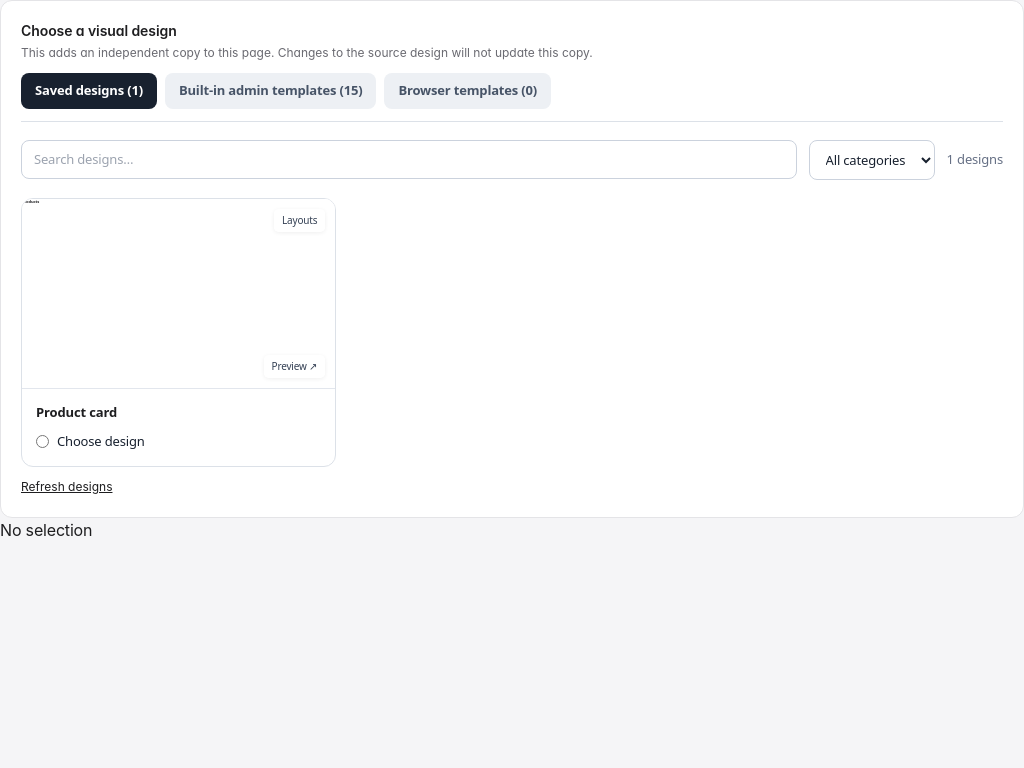
Test: opens a large preview from a thumbnail without selecting it
What coordinates should you click on to do the following:
click the button named "Preview Product card"
I would click on:
 (179, 293)
Its box is [22,198,335,388].
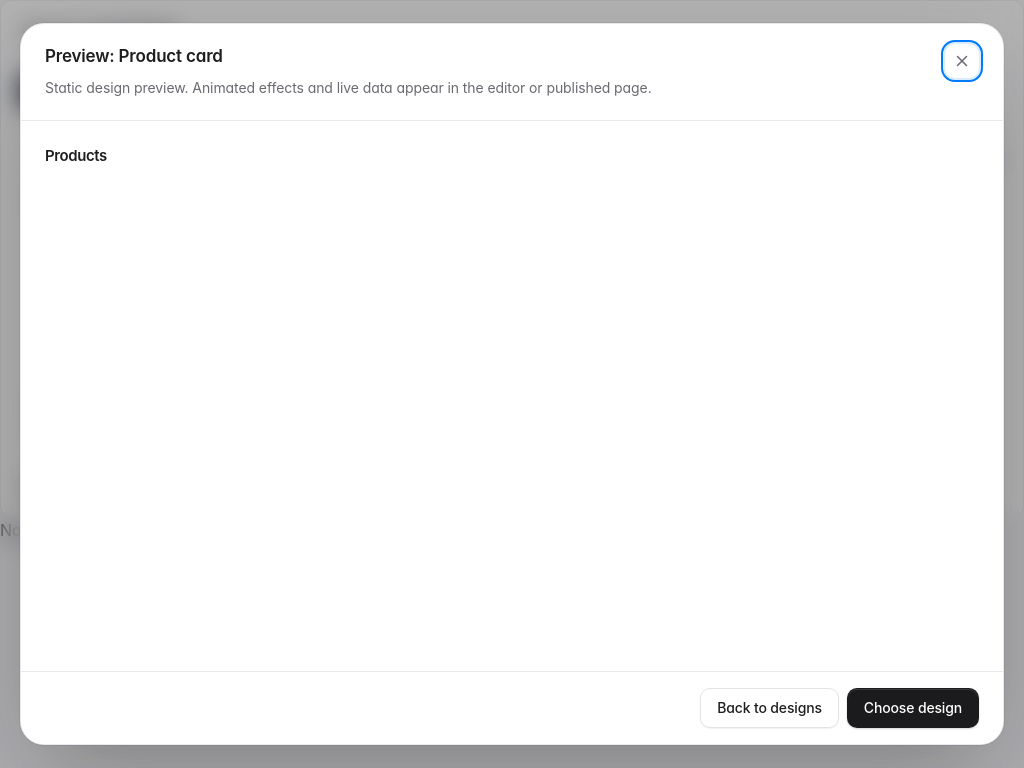
expect the text "No selection" is shown: met, box [0,520,92,540]
expect the dialog "Preview: Product card" is shown: met
What coordinates should you click on to do the following:
click the button with aria-label "Choose Product card"
I would click on:
 (913, 708)
Its box is [847,688,979,728].
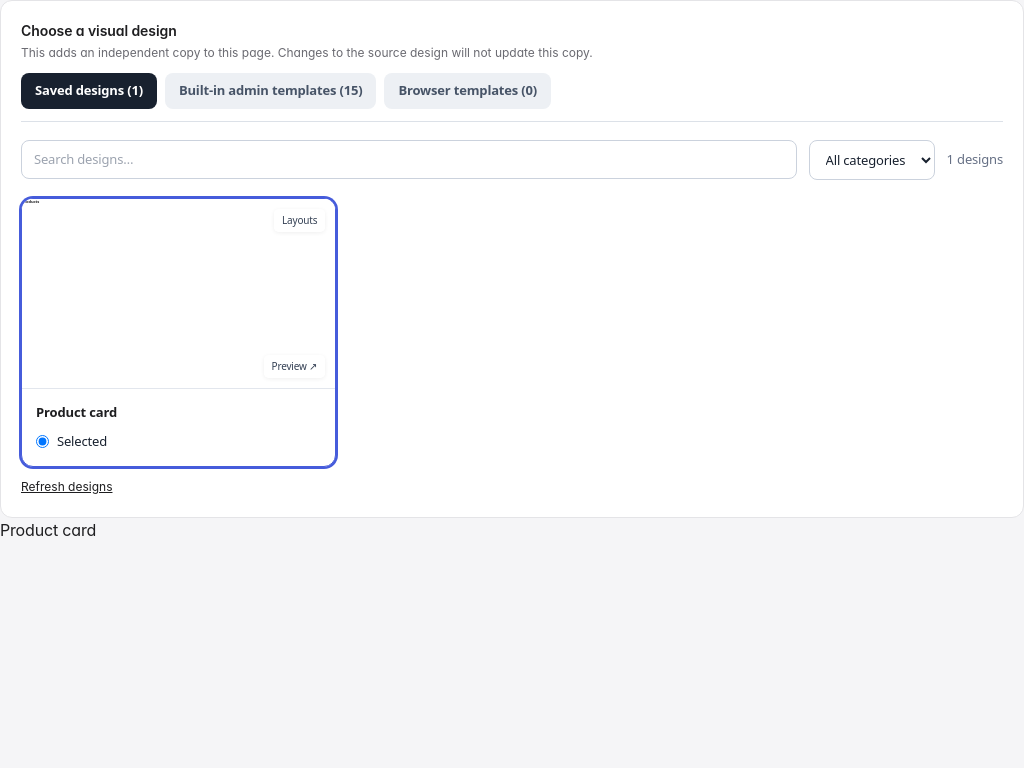
expect the heading "Preview: Product card" is gone: met
expect the radio button with aria-label "Product card" is checked: met, box [36,435,49,448]
